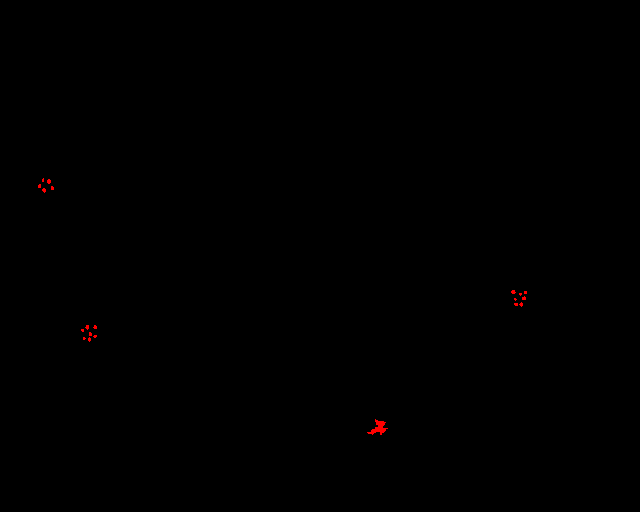Target: (367, 419, 388, 435), (47, 179, 51, 184), (42, 188, 46, 193), (511, 290, 516, 294), (519, 302, 523, 307), (85, 325, 89, 330), (522, 296, 526, 300), (93, 325, 97, 329), (88, 337, 91, 342), (38, 184, 41, 188), (51, 186, 54, 190), (514, 303, 518, 306), (89, 332, 92, 336), (93, 335, 97, 338), (524, 291, 527, 294), (519, 293, 522, 296), (514, 298, 517, 301), (81, 329, 84, 332), (83, 337, 86, 340), (42, 178, 44, 182)
